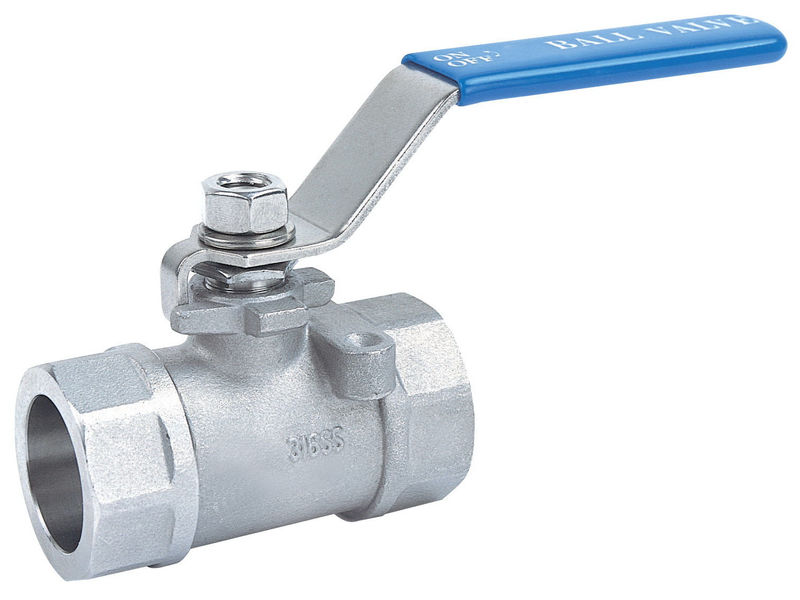valve: (11, 10, 800, 584)
